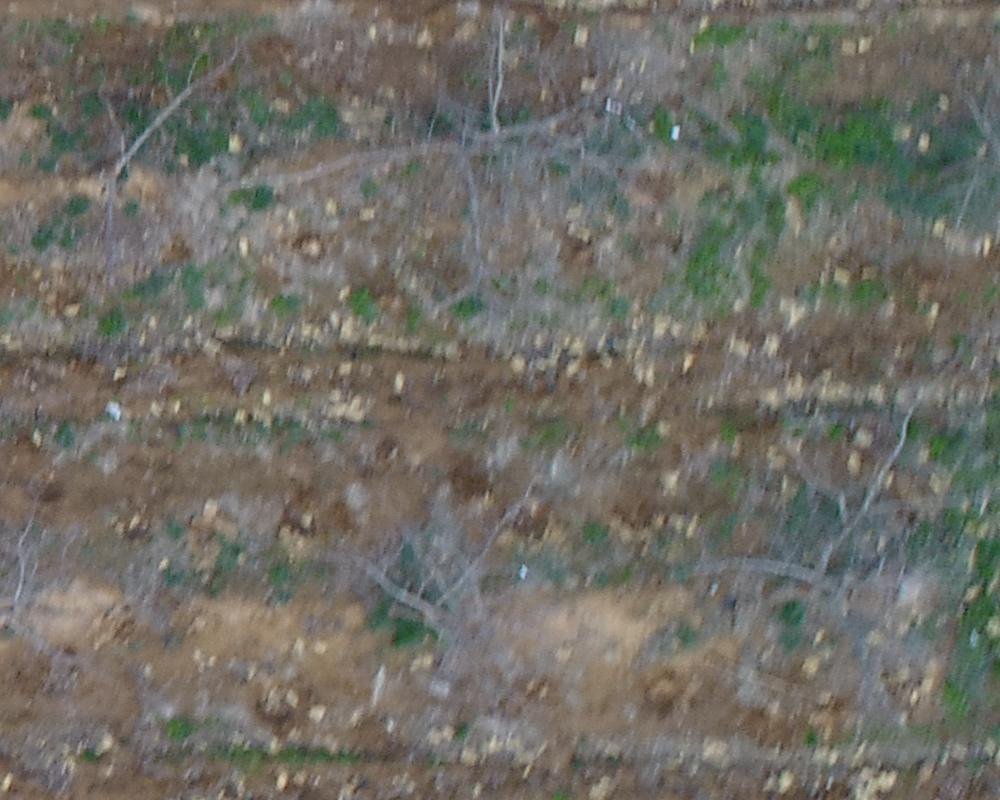apple: (267, 50, 623, 260), (660, 400, 950, 627), (32, 39, 248, 242), (328, 485, 548, 681)
